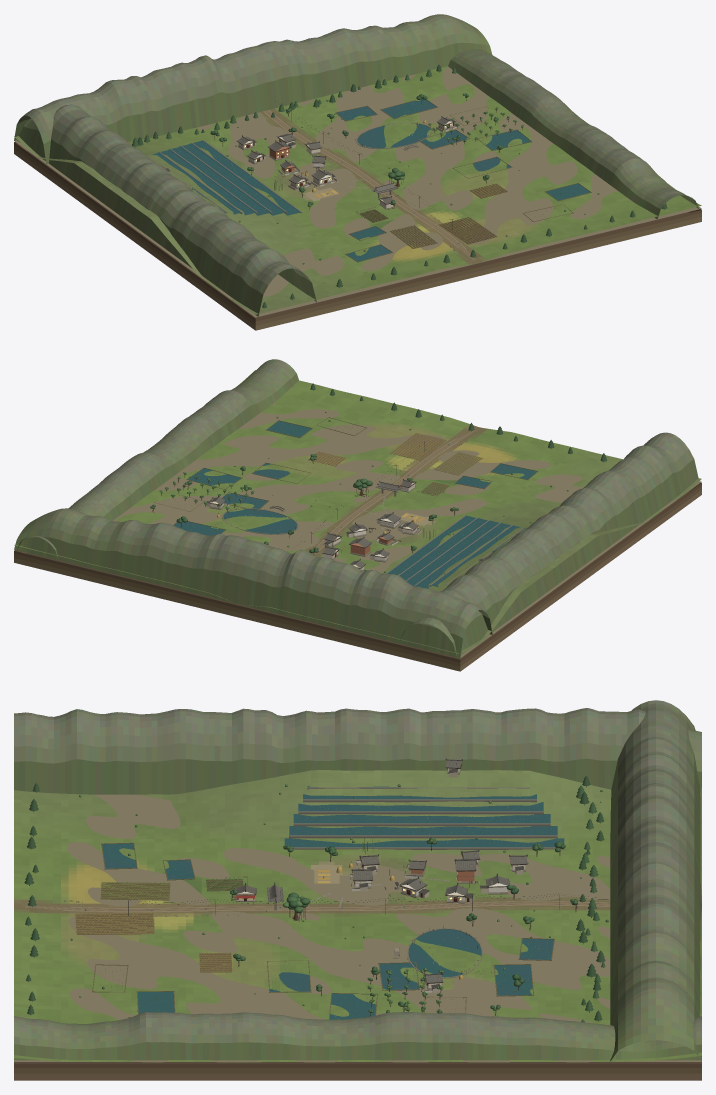
File: rural.glb
3 views of the same model, one above another, from view 1: azimuth 30°, elevation 25°; view 2: azimuth 150°, elevation 25°; view 3: azimuth 270°, elevation 25° (orthographic). The views are drawn at different scales.
Visible parts, largest first — view 1: Rural_Mountain, Rural_Matte, Rural_Matte.001, Rural_Rough, Rural_Stone, Water_Terrace.001, Water_Terrace.002, Water_Terrace, Water_Pond, Water_Terrace.003, Water_Paddy.008; view 2: Rural_Mountain, Rural_Matte, Rural_Matte.001, Rural_Rough, Rural_Stone, Water_Terrace.002, Water_Pond, Water_Terrace.001, Water_Terrace.003, Water_Terrace; view 3: Rural_Mountain, Rural_Matte, Rural_Matte.001, Rural_Rough, Rural_Stone, Water_Terrace.001, Water_Terrace.002, Water_Terrace, Water_Pond, Water_Terrace.003, Water_Paddy.008, Water_Terrace.004 (+5 smaller).
Part boxes in pixels (<box>): Rural_Mountain: <box>14,14,698,316</box>; Rural_Matte: <box>14,64,701,314</box>; Rural_Matte.001: <box>14,67,701,330</box>; Rural_Rough: <box>263,99,591,262</box>; Rural_Stone: <box>149,122,453,222</box>; Water_Terrace.001: <box>178,143,285,215</box>; Water_Terrace.002: <box>168,146,270,215</box>; Water_Terrace: <box>189,140,300,215</box>; Water_Pond: <box>357,123,430,148</box>; Water_Terrace.003: <box>157,149,255,215</box>; Water_Paddy.008: <box>381,99,436,118</box>; Rural_Mountain: <box>14,359,698,658</box>; Rural_Matte: <box>14,370,701,654</box>; Rural_Matte.001: <box>14,402,701,671</box>; Rural_Rough: <box>154,417,538,554</box>; Rural_Stone: <box>209,459,524,586</box>; Water_Terrace.002: <box>407,520,498,586</box>; Water_Pond: <box>223,509,297,533</box>; Water_Terrace.001: <box>399,518,487,580</box>; Water_Terrace.003: <box>415,523,510,588</box>; Water_Terrace: <box>387,515,475,574</box>; Rural_Mountain: <box>14,700,701,1061</box>; Rural_Matte: <box>14,758,701,1062</box>; Rural_Matte.001: <box>14,794,701,1080</box>; Rural_Rough: <box>25,842,610,1019</box>; Rural_Stone: <box>87,770,564,989</box>; Water_Terrace.001: <box>289,826,557,835</box>; Water_Terrace.002: <box>293,814,550,823</box>; Water_Terrace: <box>284,838,564,847</box>; Water_Pond: <box>408,929,481,977</box>; Water_Terrace.003: <box>298,802,543,811</box>; Water_Paddy.008: <box>494,964,532,995</box>; Water_Terrace.004: <box>303,794,536,799</box>.
Size of the model in its own units: 320 by 45.08 by 300.
Materials: 11 (1 with a texture image).
